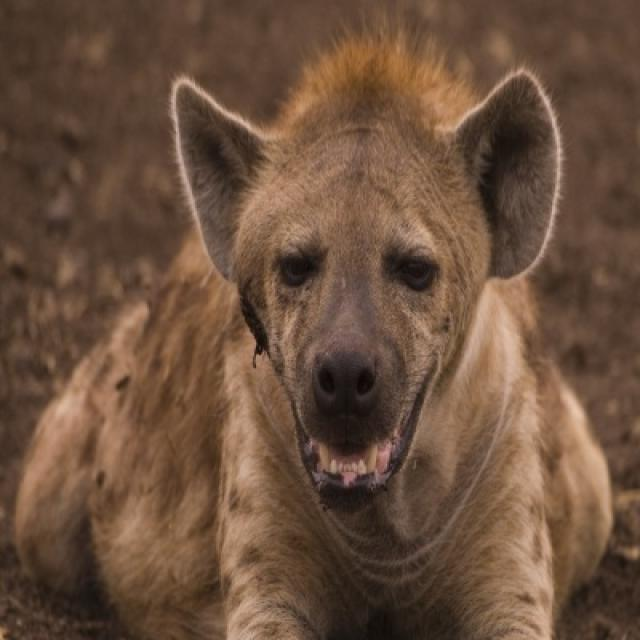hyena: (13, 35, 616, 638)
